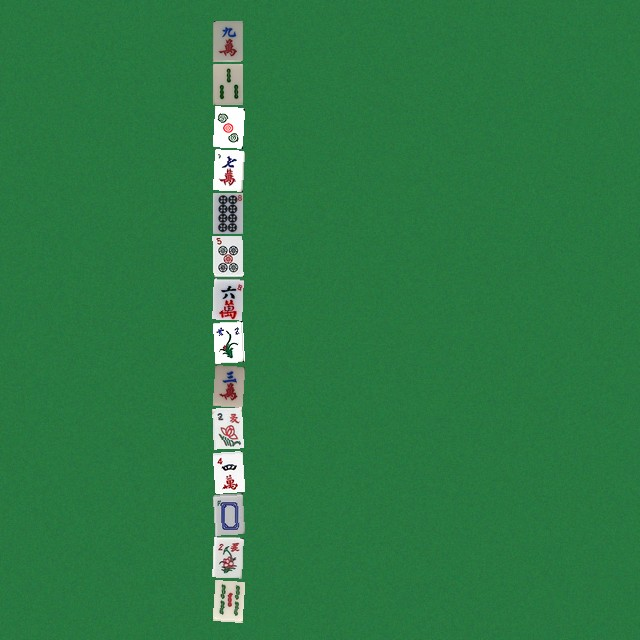tile: (212, 20, 242, 61), (212, 63, 242, 104), (212, 106, 242, 147), (212, 149, 242, 190), (212, 192, 242, 233), (212, 235, 242, 276), (212, 278, 242, 319), (212, 321, 242, 362), (212, 364, 242, 405), (212, 407, 242, 448), (212, 450, 242, 491), (212, 493, 242, 534), (212, 536, 242, 577), (212, 579, 242, 620)
